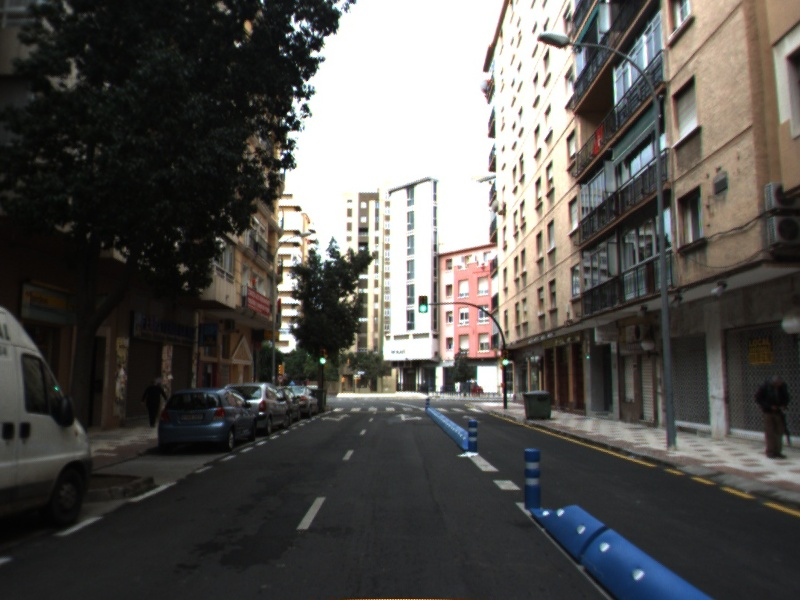STRAIGHT_LEFT: (320, 412, 352, 423)
STRAIGHT_RIGHT: (394, 411, 424, 422)
